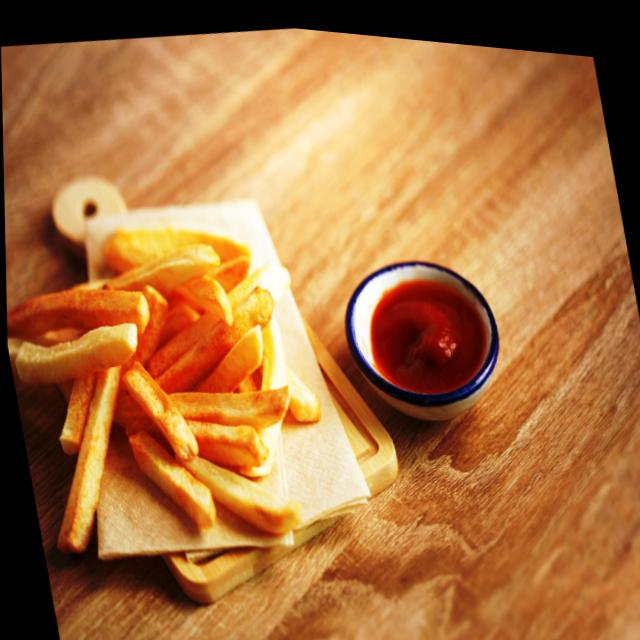french fries: (4, 194, 341, 583)
ketchup: (354, 258, 504, 416)
